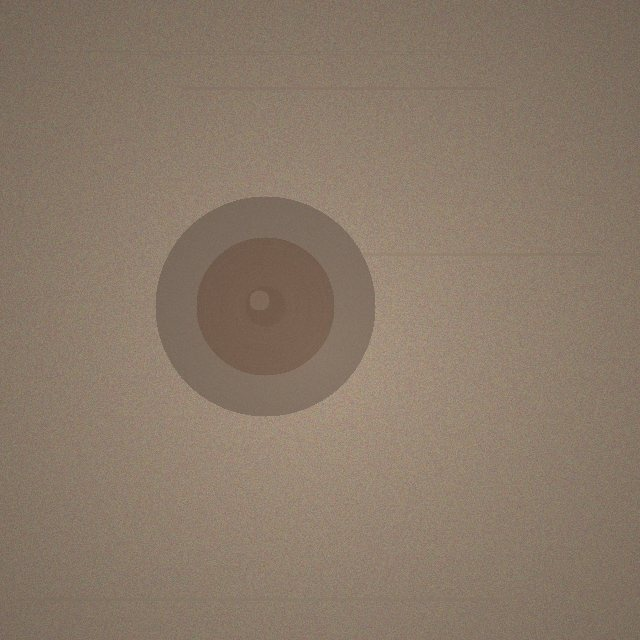good: (155, 196, 375, 416)
